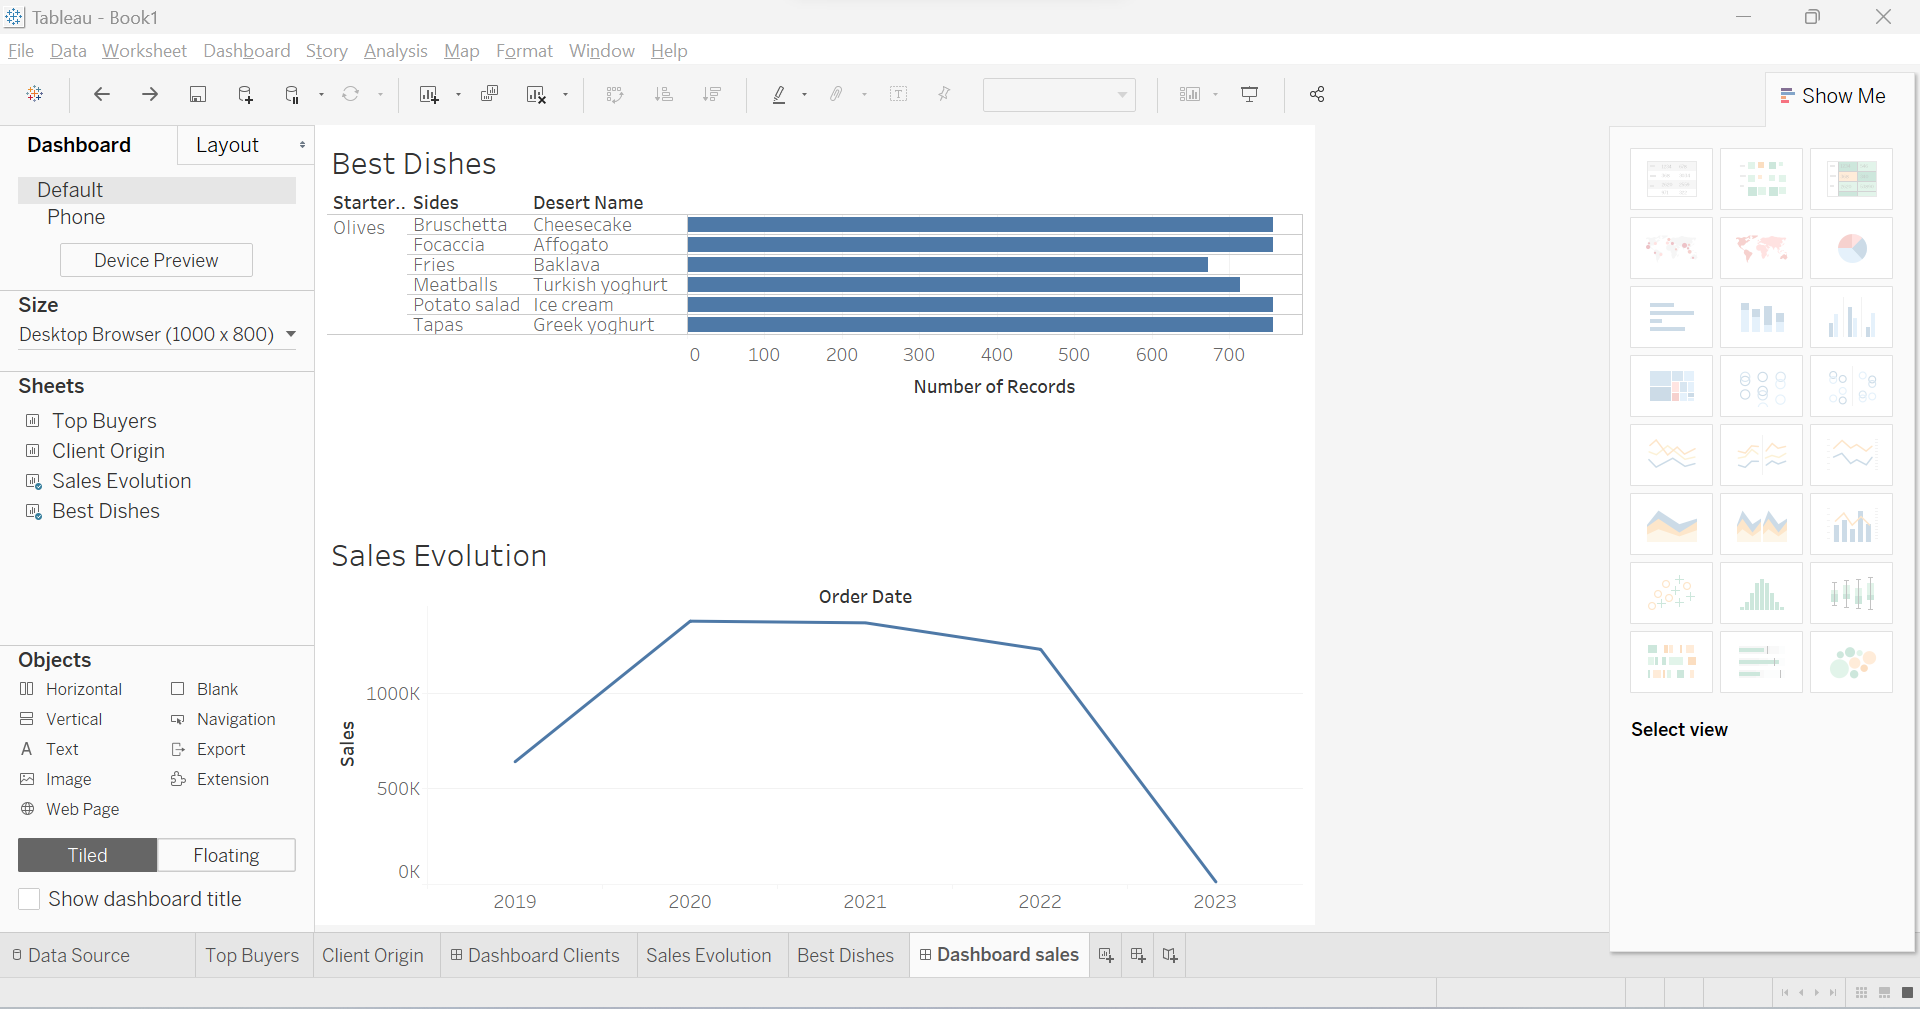

This screenshot's page, from the dashboard's own definition file:
{"tool":"tableau","page":{"name":"Dashboard sales","canvas":[1000,800],"ordinal":1},"visuals":[{"type":"worksheet","title":"Best Dishes","mark":"Automatic","rows":["Starter Name","Sides","Desert Name"],"cols":["Number of Records"],"box":[8,8,984,392]},{"type":"worksheet","title":"Sales Evolution","mark":"Automatic","rows":["Sales"],"cols":["Order Date"],"box":[8,400,984,392]}]}

Visuals, with their boxes on the page's 1000x800 design canvas (x1, y1, x2, y2). These are canvas units, not pixel positions in the 1920x1009 screenshot, which may show the page scaled, cropped or inside an application window:
"Best Dishes" worksheet: rect(8, 8, 992, 400)
"Sales Evolution" worksheet: rect(8, 400, 992, 792)
